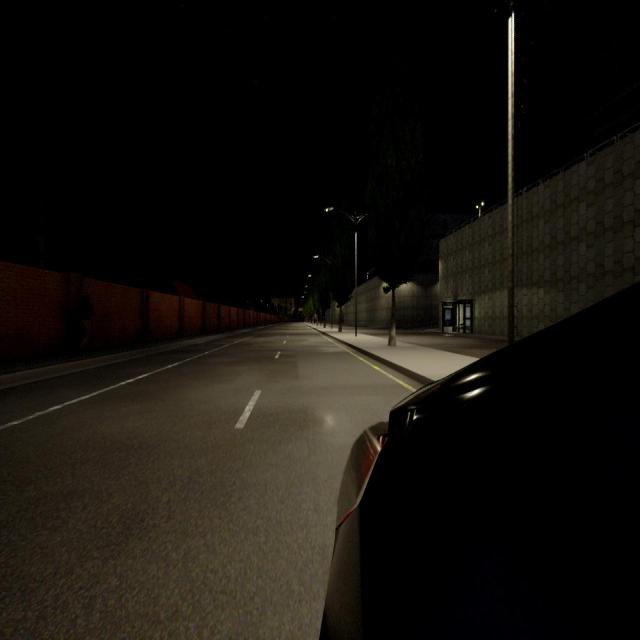Pedestrian: (77, 292, 94, 350), (338, 310, 344, 332)
Vehicle: (321, 282, 639, 637)
